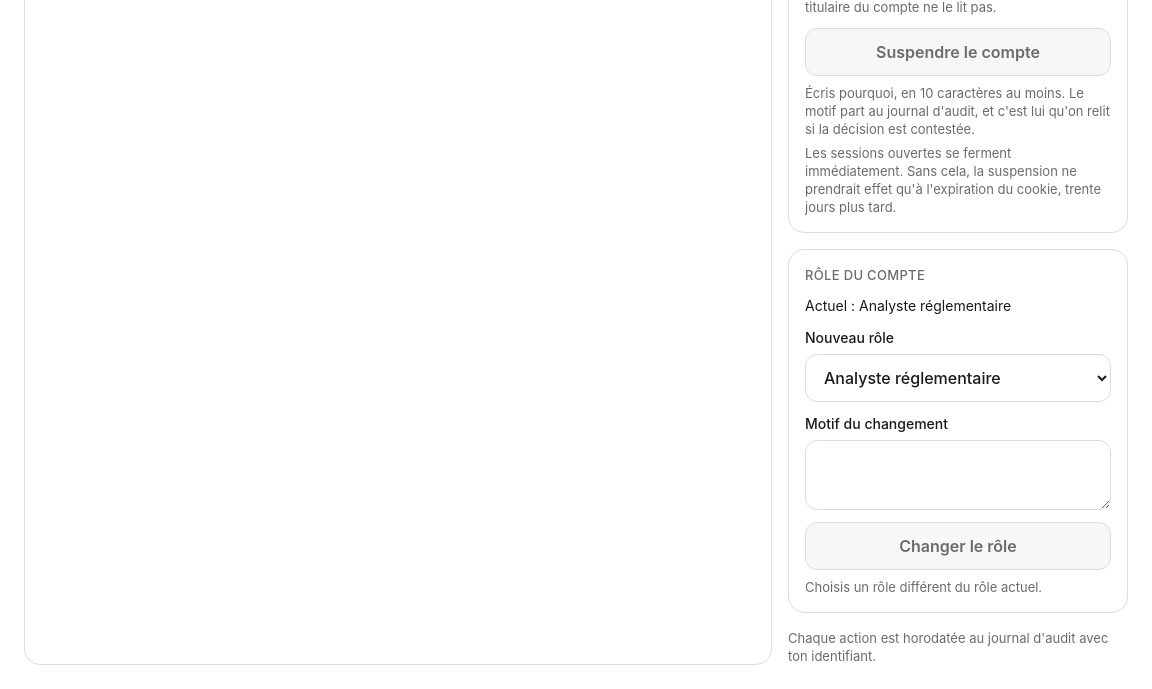
Test: B-03 selon le rôle de l'opérateur › le super-administrateur confirme deux fois : le bouton, puis l'adresse ressaisie
(page scrolled)
Select "Administration" in the dropdown labelled "Nouveau rôle" at (958, 378), box [805, 354, 1111, 402]
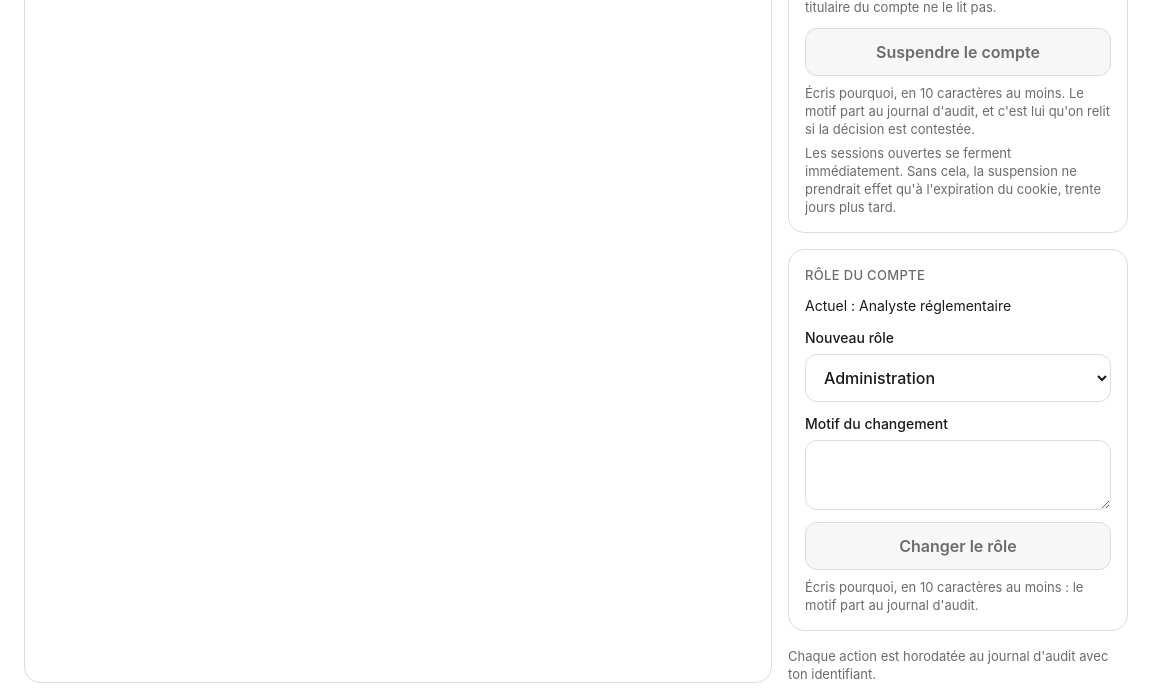
Type "Responsable de la revue désigné" into the text box labelled "Motif du changement" at (958, 475), box [805, 440, 1111, 510]
(page scrolled)
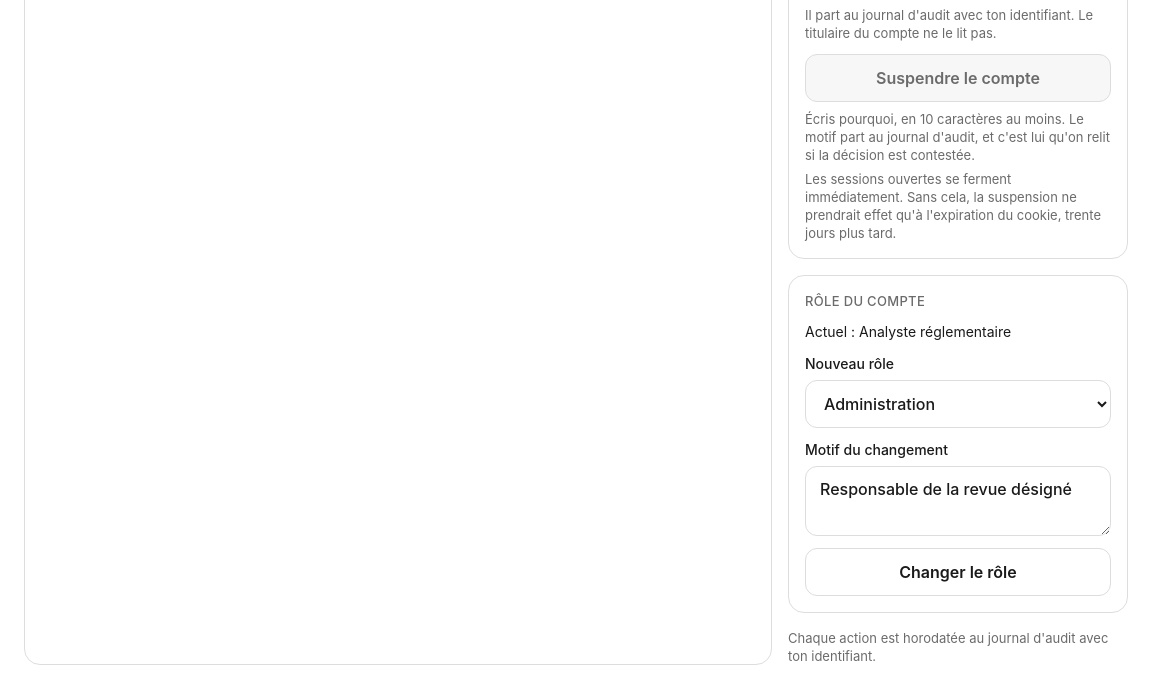
Click the button "Changer le rôle" at (958, 572), box [805, 548, 1111, 596]
(page scrolled)
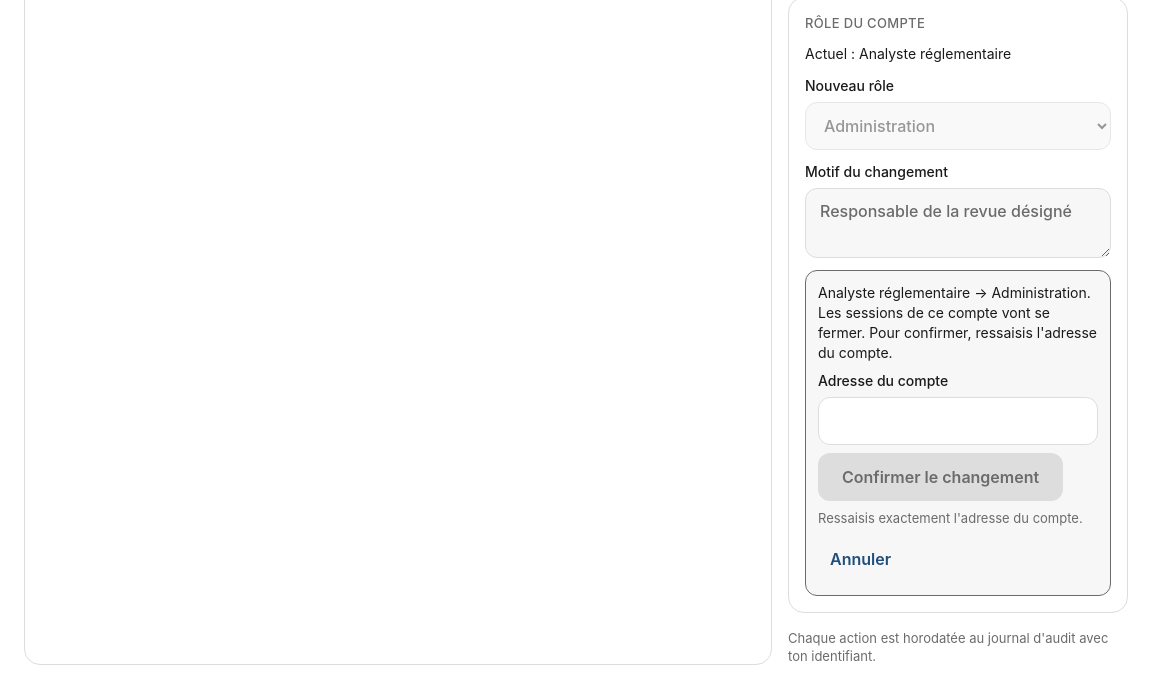
Now the button "Confirmer le changement" is disabled, box [818, 453, 1063, 501]
Type "kofi@immipro.ap" into the field labelled "Adresse du compte" at (958, 421), box [818, 397, 1098, 445]
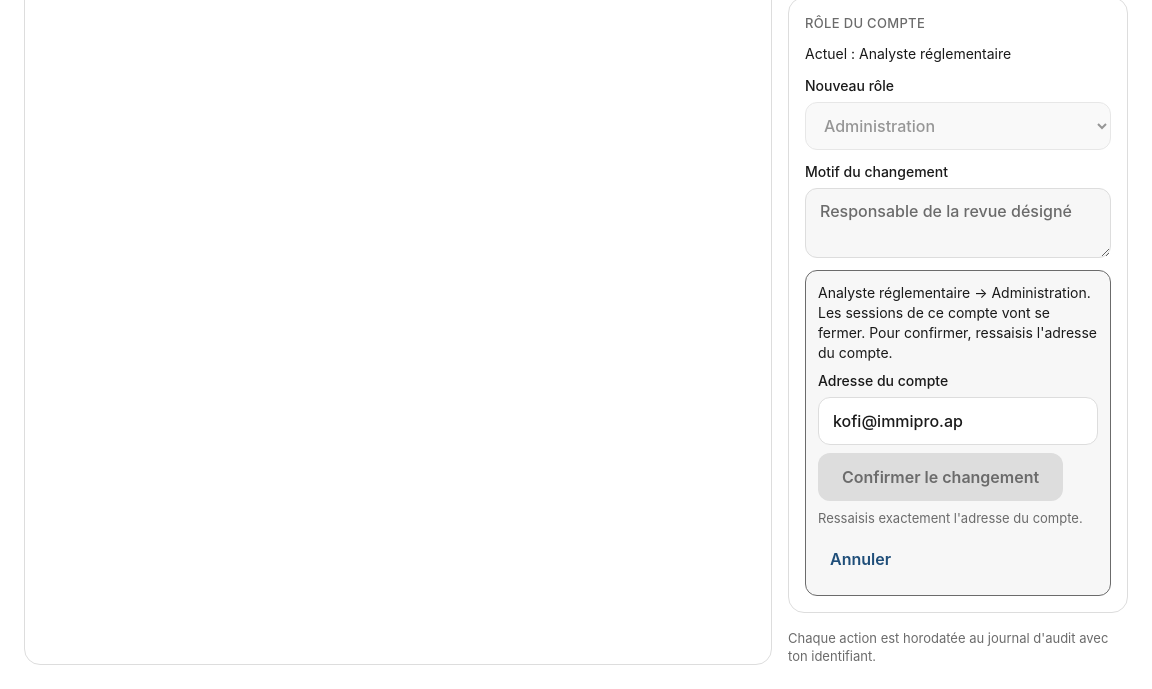
Now the button "Confirmer le changement" is disabled, box [818, 453, 1063, 501]
Replace the text in the field labelled "Adresse du compte" with "KOFI@immipro.app" at (958, 421), box [818, 397, 1098, 445]
(page scrolled)
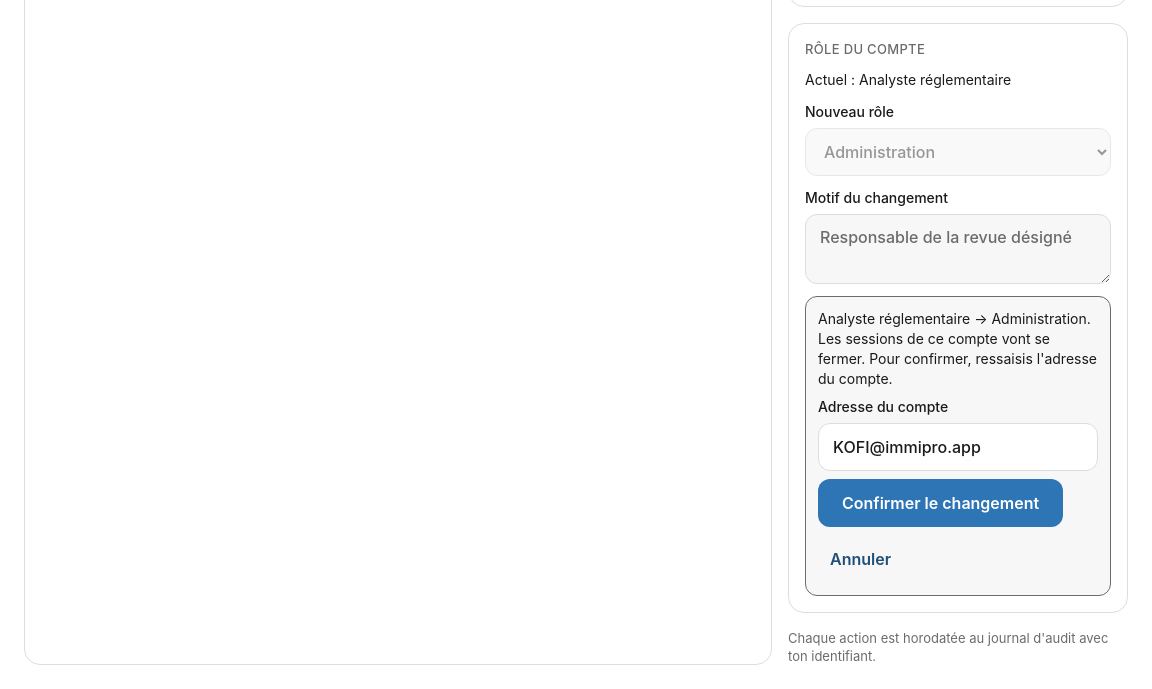
Now the button "Confirmer le changement" is enabled
Click the button "Confirmer le changement" at (941, 503), box [818, 479, 1063, 527]
(page scrolled)
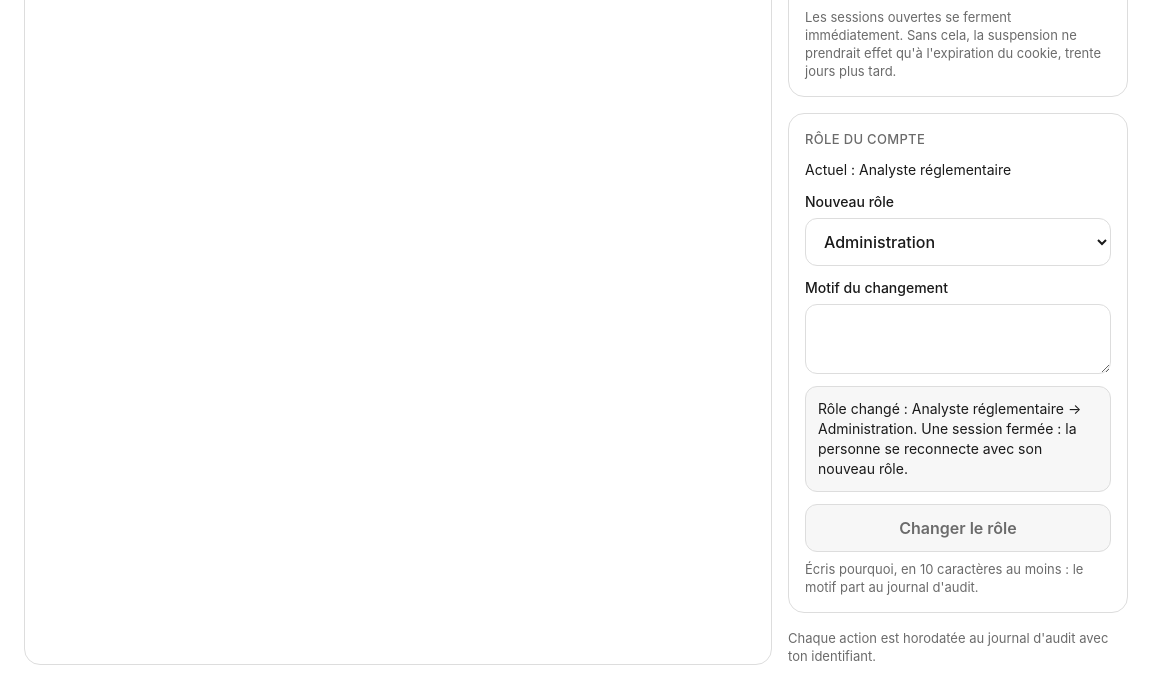
Now the text "Une session fermée" is shown, box [818, 400, 1081, 477]
